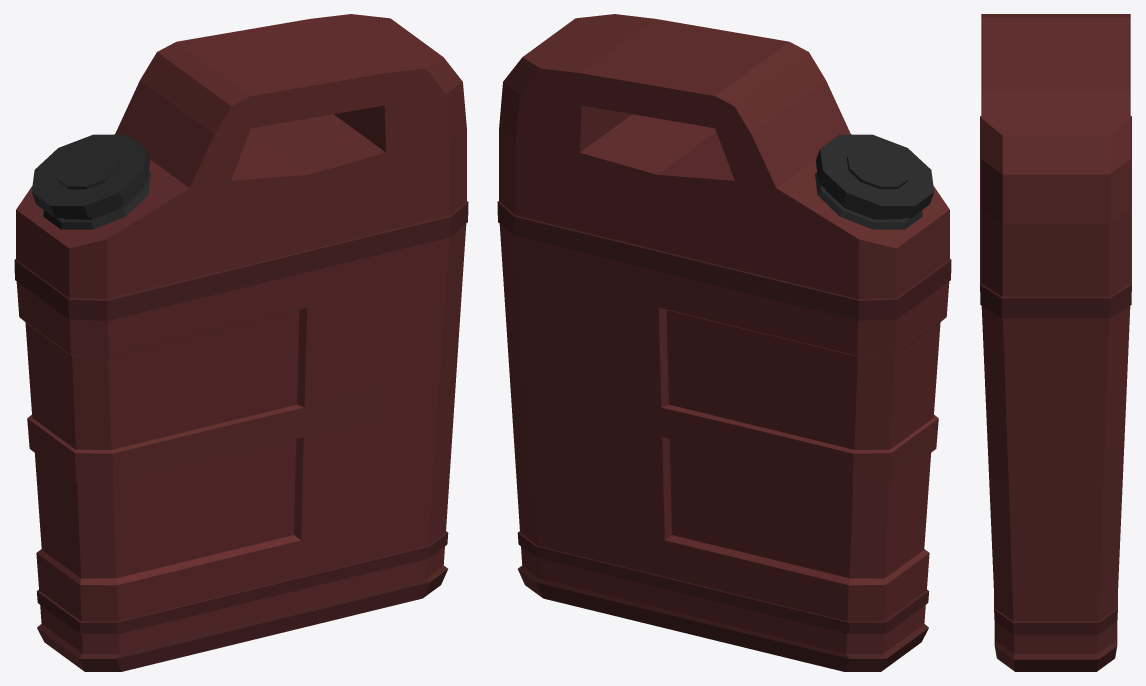
Rendered from gas_can.glb.
3 views of the same model, side by side, from view 1: azimuth 30°, elevation 25°; view 2: azimuth 150°, elevation 25°; view 3: azimuth 270°, elevation 25° (orthographic).
Parts seen in each view (by area): view 1: gas_can; view 2: gas_can; view 3: gas_can.
Part boxes in pixels (left/top/right/bottom): gas_can: left=14, top=14, right=468, bottom=671; gas_can: left=497, top=14, right=951, bottom=671; gas_can: left=980, top=14, right=1131, bottom=671.
Size of the model in its own units: 0.3037 by 0.4 by 0.0995.
